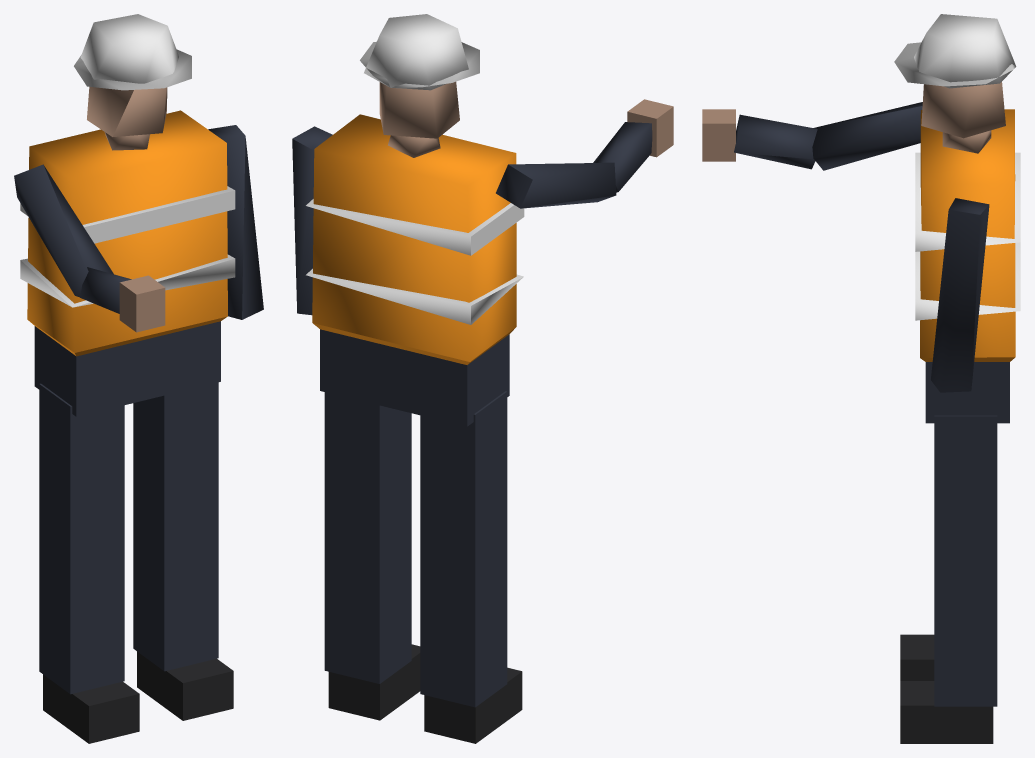
The model's file is worker_LOD1.glb.
The picture shows the model from 3 angles, left to right: view 1: azimuth 30°, elevation 25°; view 2: azimuth 150°, elevation 25°; view 3: azimuth 270°, elevation 25°; orthographic projection.
Parts seen in each view (by area): view 1: Body_LOD1; view 2: Body_LOD1; view 3: Body_LOD1.
Part boxes in pixels (left/top/right/bottom): Body_LOD1: left=14, top=14, right=263, bottom=743; Body_LOD1: left=292, top=14, right=673, bottom=743; Body_LOD1: left=702, top=14, right=1020, bottom=743.
Bounding box in the file's own units: 0.6858 × 1.78 × 0.755.
